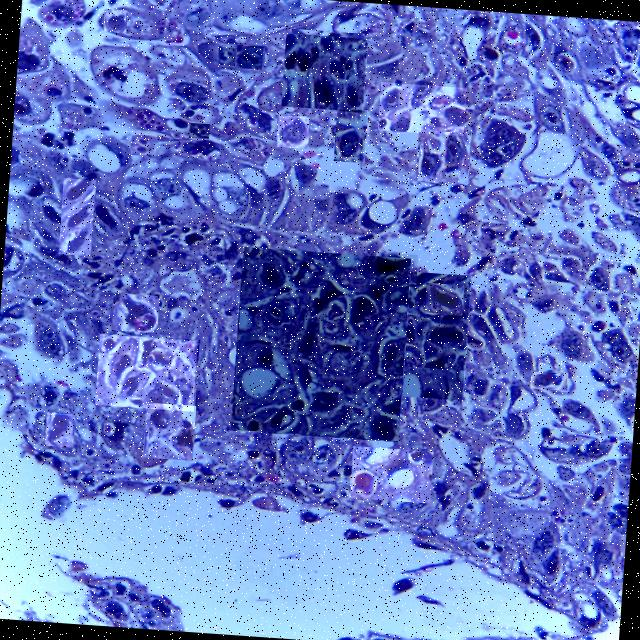Multiple Nucleol: (237, 46, 263, 68), (131, 133, 156, 154), (218, 47, 236, 64), (189, 123, 209, 138)
Nuclear Hyperchromatism: (235, 255, 410, 433), (411, 271, 468, 399), (99, 334, 194, 409), (285, 34, 363, 110), (350, 450, 433, 498), (380, 84, 464, 131), (145, 403, 194, 460), (59, 179, 95, 254), (418, 132, 469, 181), (491, 258, 585, 283), (376, 253, 415, 304), (114, 293, 157, 331), (335, 111, 367, 161), (427, 284, 462, 315), (277, 115, 308, 147), (45, 413, 75, 445), (531, 372, 566, 388), (104, 9, 125, 32)
